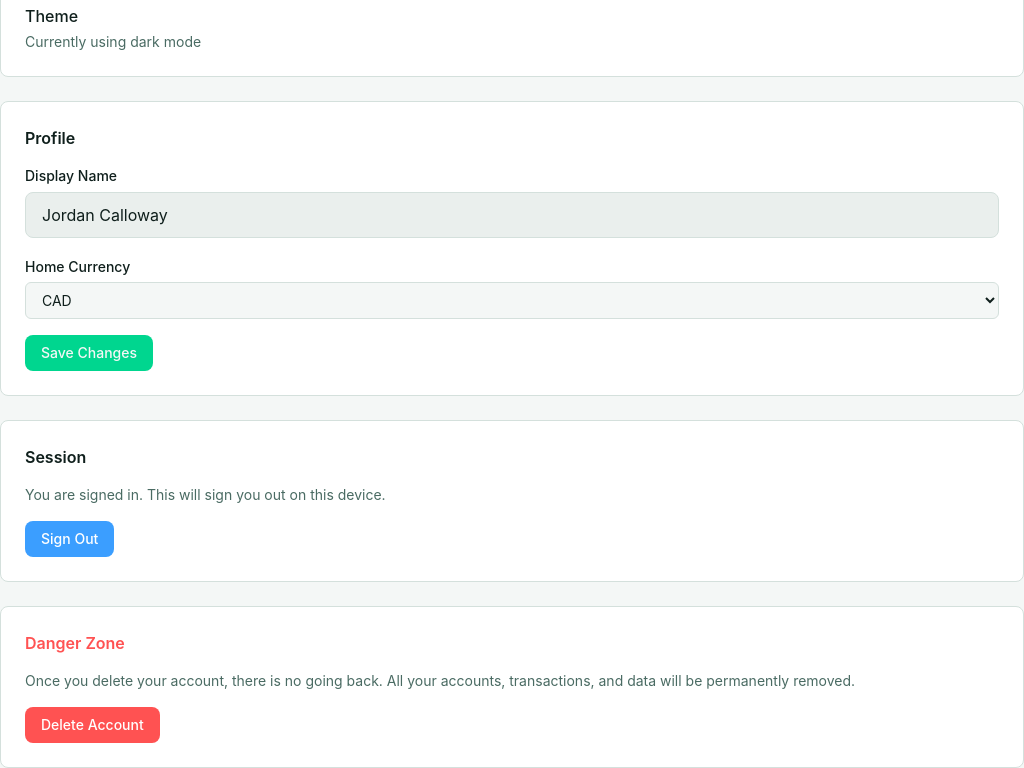
Settings page › delete account › shows the confirmation input after clicking Delete Account
The image size is (1024, 768).
(page scrolled)
Click the button "Delete Account".
click(92, 725)  # box [25,707,160,743]
(page scrolled)
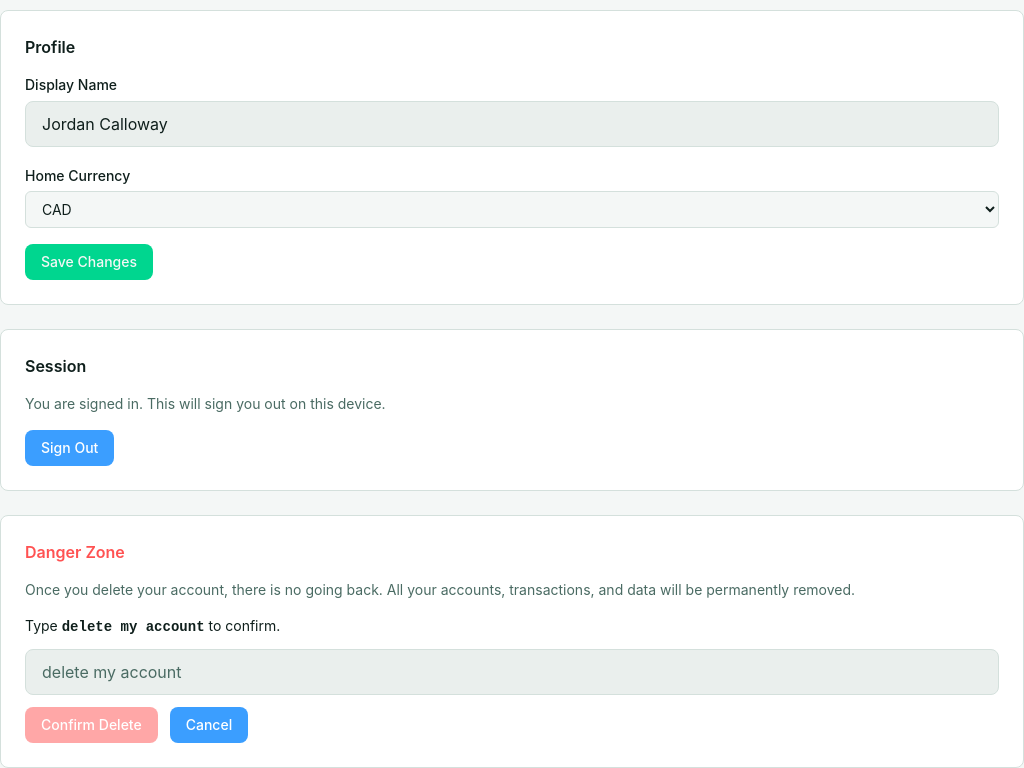
Expected: the field with placeholder "delete my account" is shown, [25,649,999,695]
